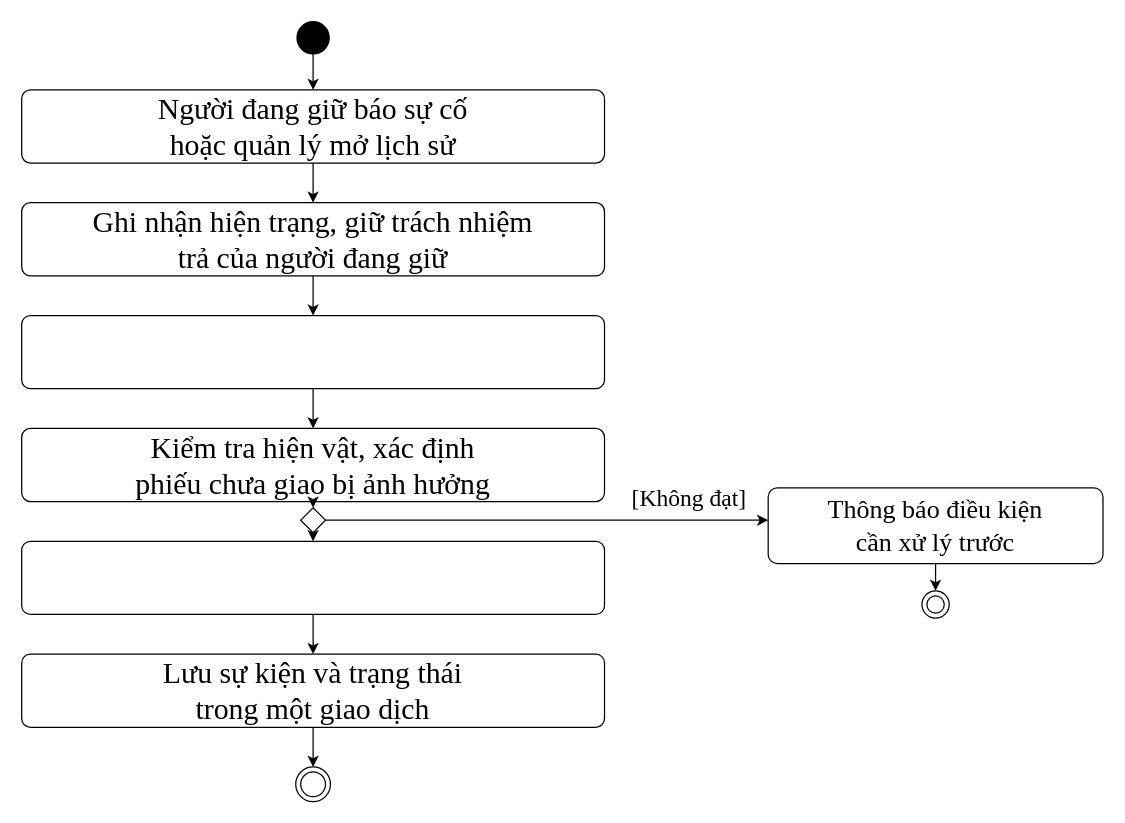
Some shapes in this 1125 by 823 pixel diagram are drawn without their labels. Each missing label, with the centre of its shape:
Chọn Tiếp tục chia sẻ hoặc Bảo trì Ghi tình trạng sau kiểm tra: point 312,577
Quản lý mở đánh giá khi không còn người giữ: point 312,351
